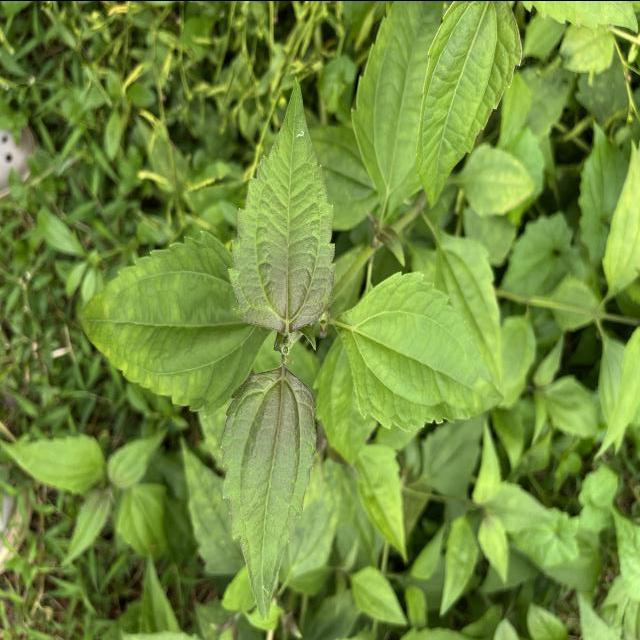Chromolaena odorata: (224, 73, 338, 334), (217, 362, 321, 620)
